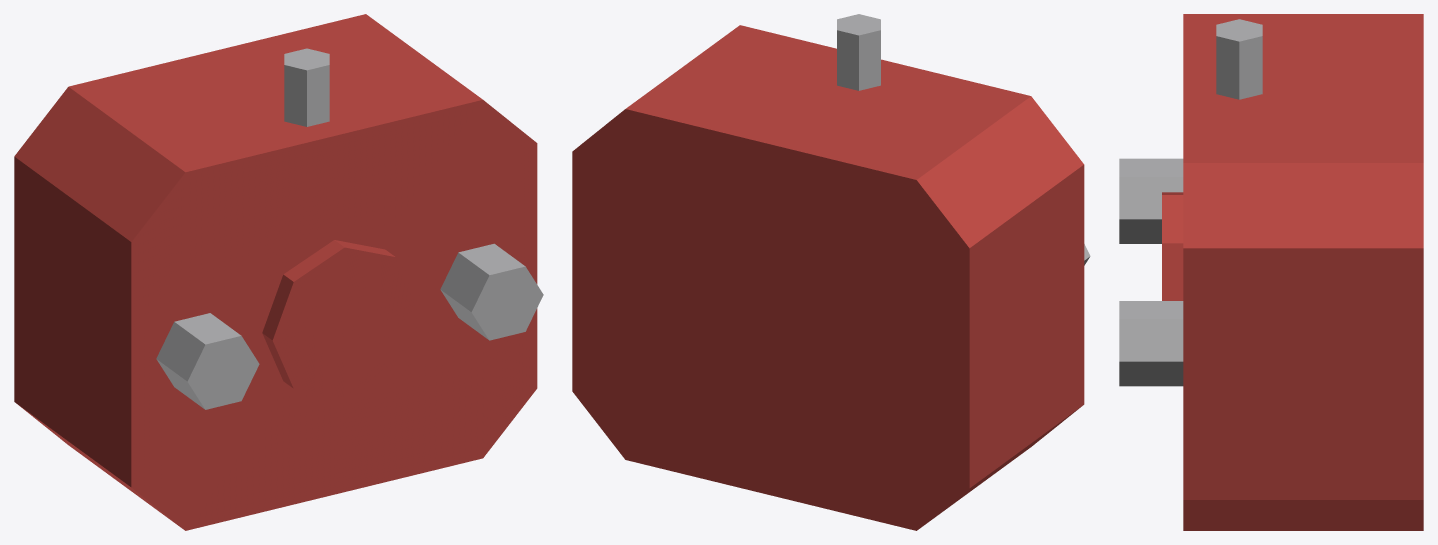
The model's file is twin_piston_lod1.glb.
The picture shows the model from 3 angles, left to right: view 1: azimuth 30°, elevation 25°; view 2: azimuth 150°, elevation 25°; view 3: azimuth 270°, elevation 25°; orthographic projection. The views are drawn at different scales.
Parts seen in each view (by area): view 1: twin_piston_lod1; view 2: twin_piston_lod1; view 3: twin_piston_lod1.
Boxes of the visible parts, left/top/right/bottom form: twin_piston_lod1: left=14, top=14, right=543, bottom=530; twin_piston_lod1: left=572, top=14, right=1090, bottom=530; twin_piston_lod1: left=1119, top=14, right=1423, bottom=530.
Size of the model in its own units: 0.09 by 0.088 by 0.057.
